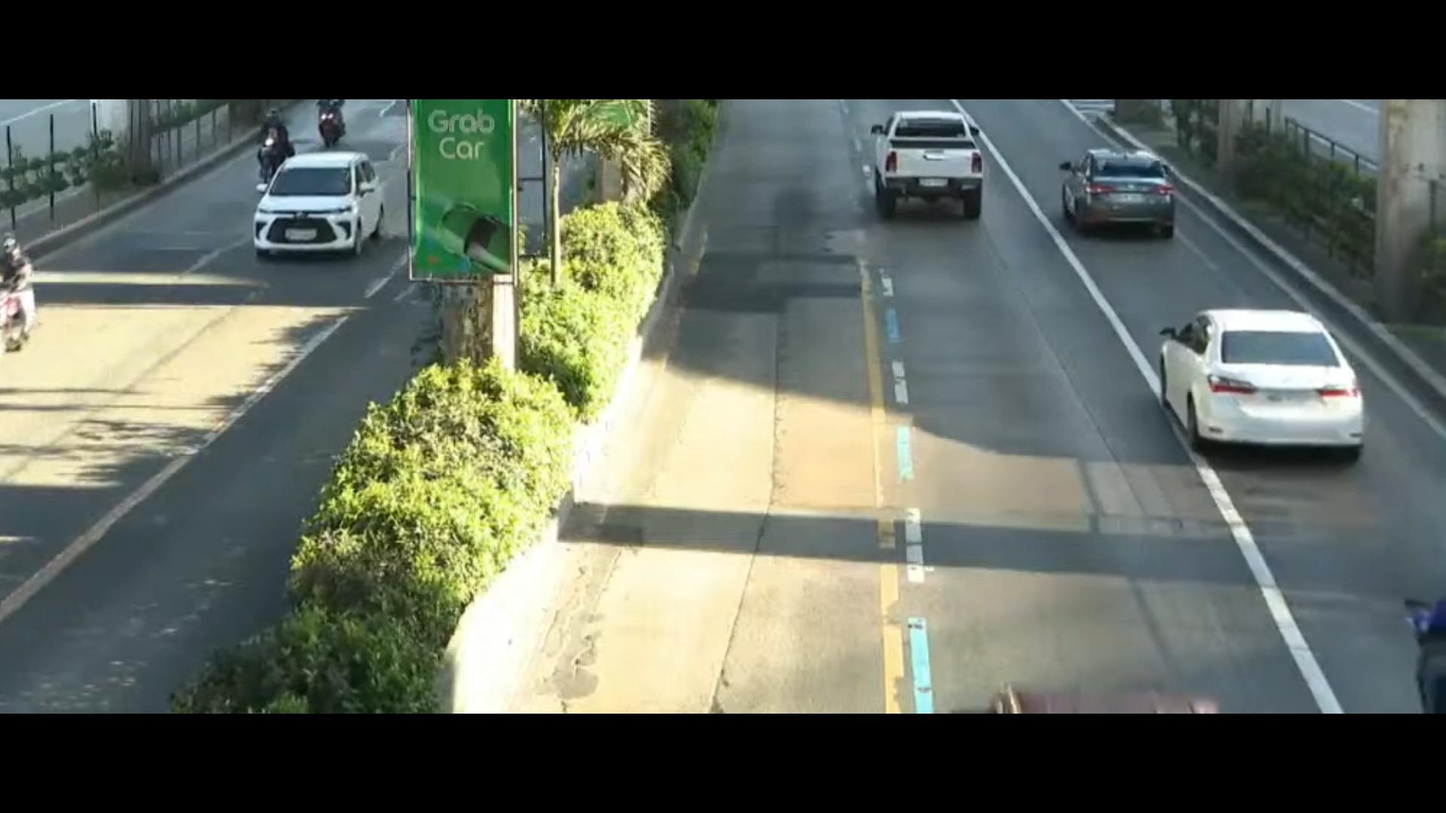Motorcycle: (0, 213, 34, 362), (241, 104, 298, 188), (302, 93, 358, 155)
Pickup: (859, 108, 995, 234)
Sedan: (1132, 296, 1382, 485), (227, 142, 392, 267), (1048, 134, 1217, 243)
